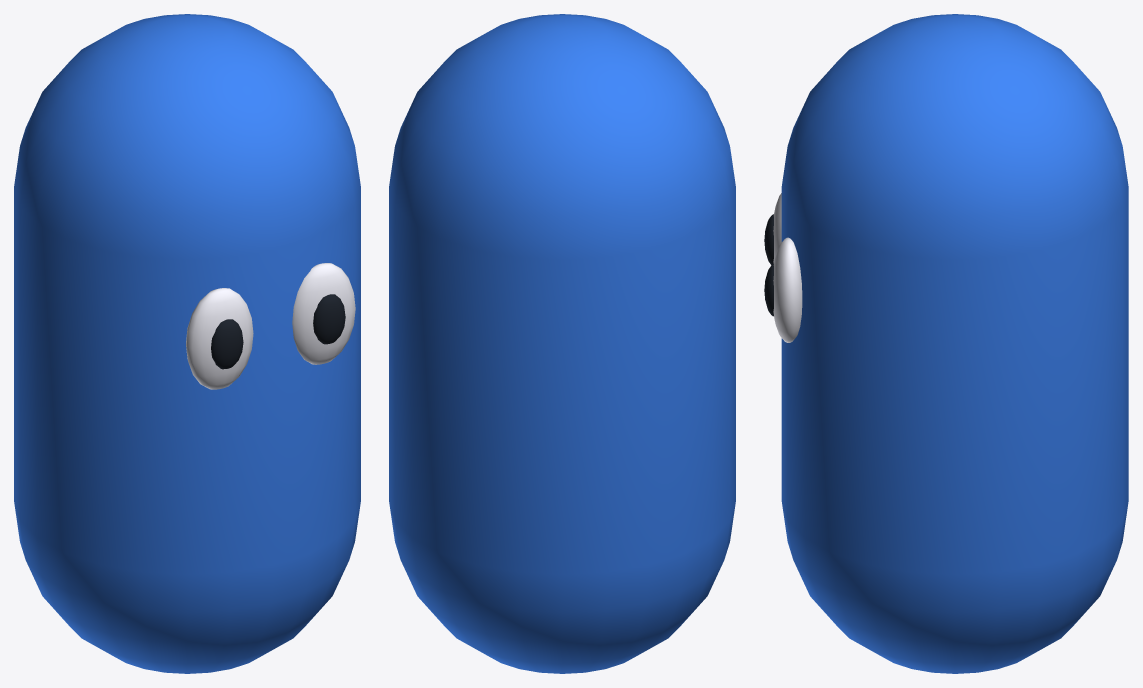
Rendered from Player.fbx.
3 renders of one model, left to right at view 1: azimuth 30°, elevation 25°; view 2: azimuth 150°, elevation 25°; view 3: azimuth 270°, elevation 25°, orthographic.
Parts seen in each view (by area): view 1: Player, Eyes; view 2: Player; view 3: Player, Eyes.
Boxes of the visible parts, x1,y1,x2,y2 form: Player: [14, 14, 360, 673]; Eyes: [186, 263, 355, 389]; Player: [389, 14, 735, 673]; Player: [781, 14, 1128, 673]; Eyes: [764, 193, 802, 342].
Size of the model in its own units: 1 by 1.05 by 2.
